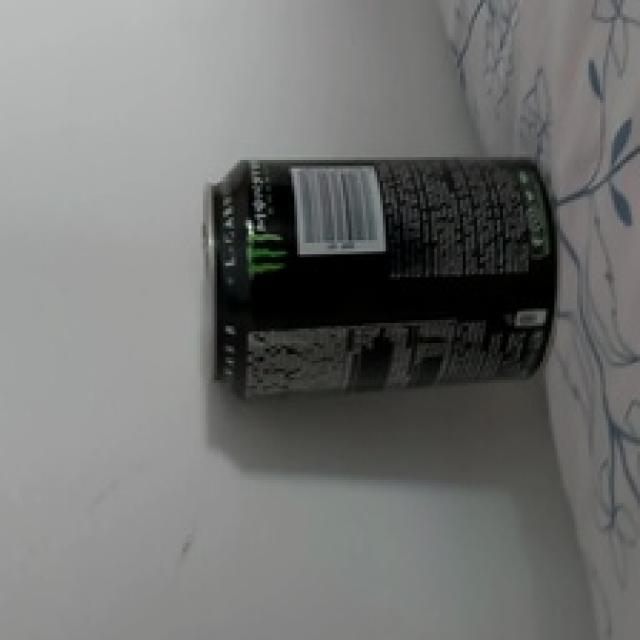recyclable: (203, 152, 562, 396)
